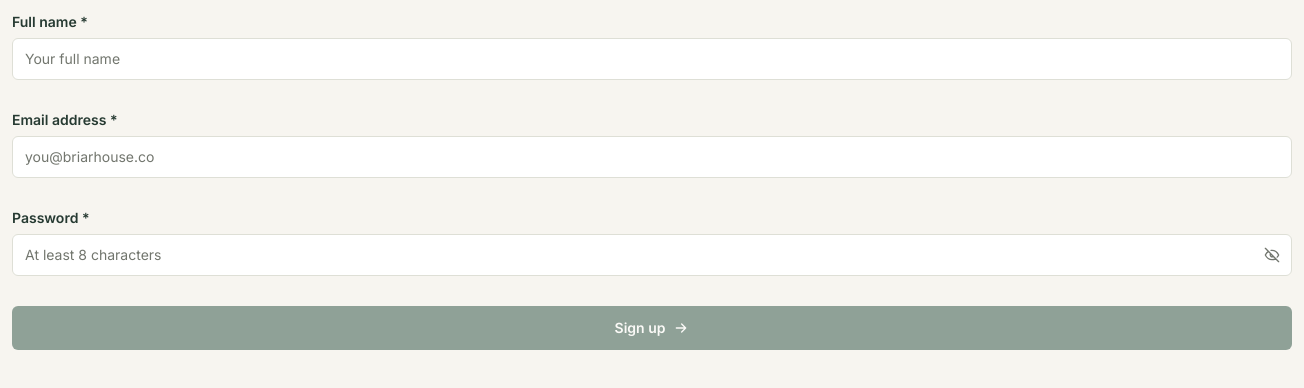
Scenario: SignupForm › shows the API message for other errors and keeps the form filled in
This screenshot has width=1304, height=388.
In the field labelled "Full name": [652, 59] box [12,38,1292,80], type "Sam Lee"
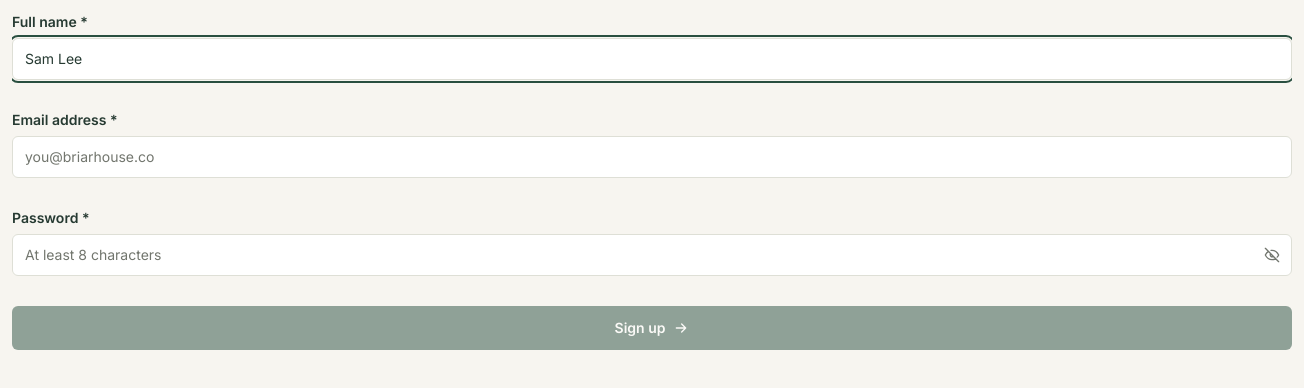
In the field labelled "Email address": [652, 157] box [12,136,1292,178], type "sam@hotel.com"
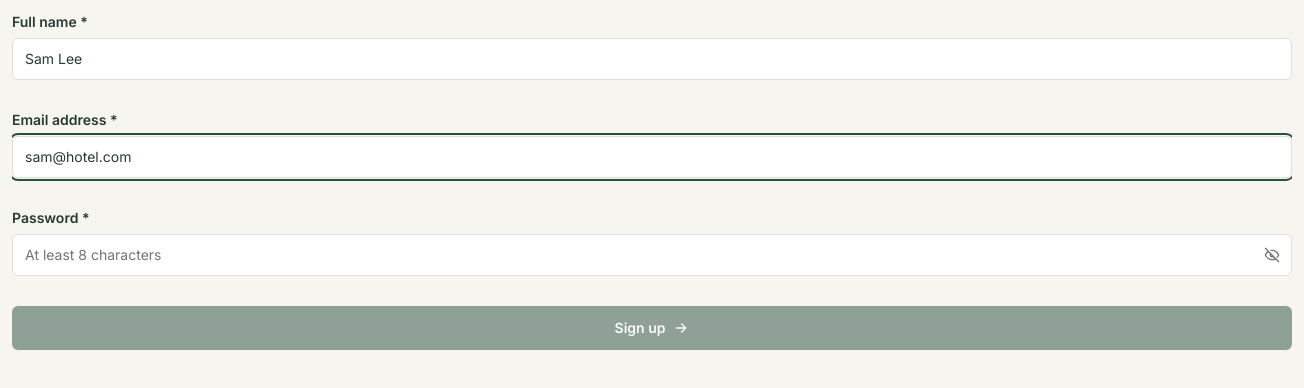
In the password field labelled "Password": [652, 255] box [12,234,1292,276], type "at-least-8"
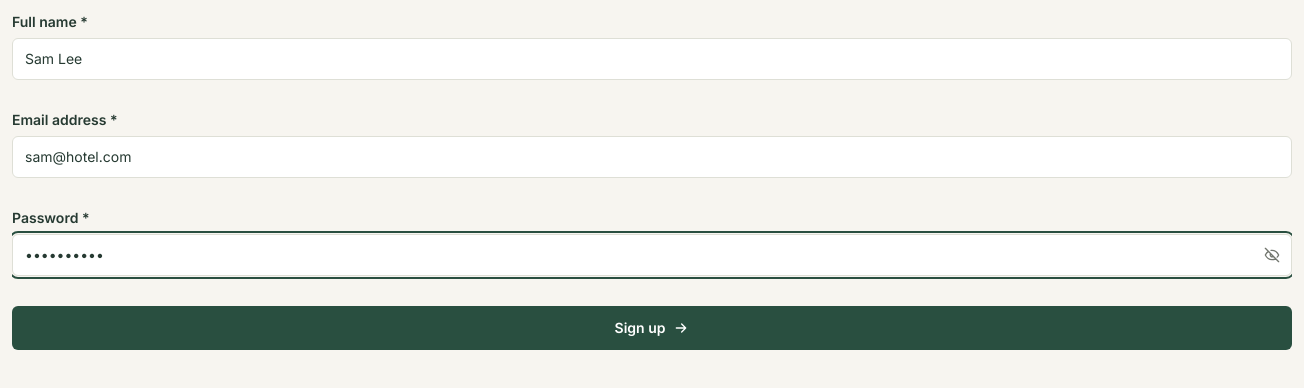
Click the button "Sign up": [652, 328] box [12,306,1292,350]
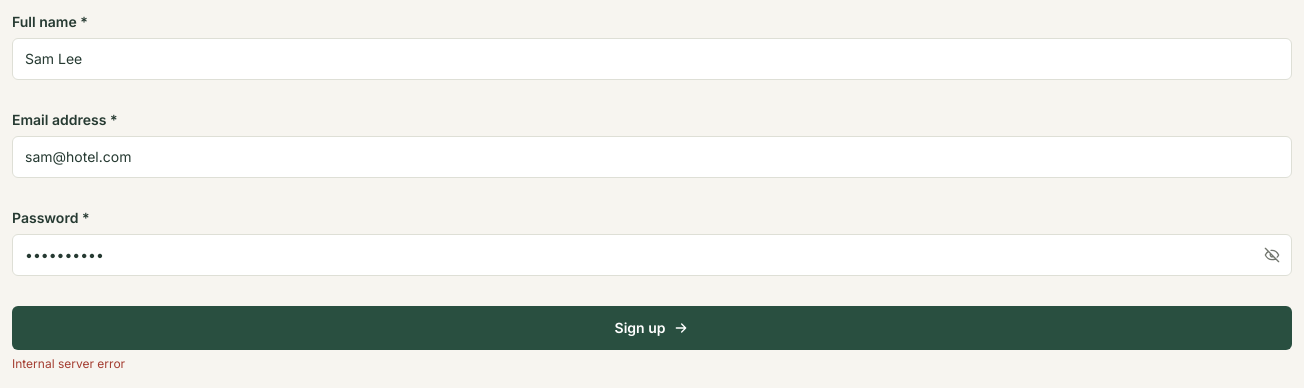
expect the button "Sign up" is enabled: met, box [12,306,1292,350]
expect the text "Internal server error" is shown: met, box [12,356,125,371]
